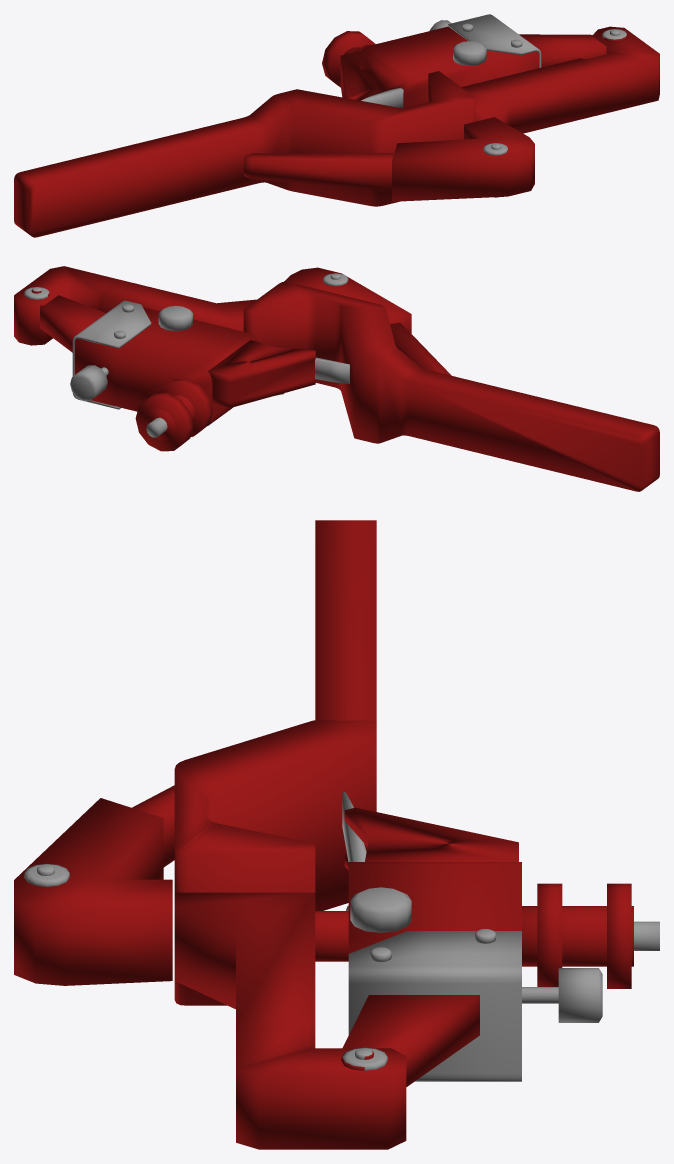
The picture shows the model from 3 angles, top to bottom: view 1: azimuth 30°, elevation 25°; view 2: azimuth 150°, elevation 25°; view 3: azimuth 270°, elevation 25°; orthographic projection. The views are drawn at different scales.
Visible parts, largest first — view 1: 绝缘剥线器; view 2: 绝缘剥线器; view 3: 绝缘剥线器.
Boxes of the visible parts, x1=… form: 绝缘剥线器: x1=14, y1=14, x2=659, y2=237; 绝缘剥线器: x1=14, y1=266, x2=659, y2=491; 绝缘剥线器: x1=14, y1=520, x2=659, y2=1149.
Bounding box in the file's own units: 3.69 × 0.4808 × 1.84.
